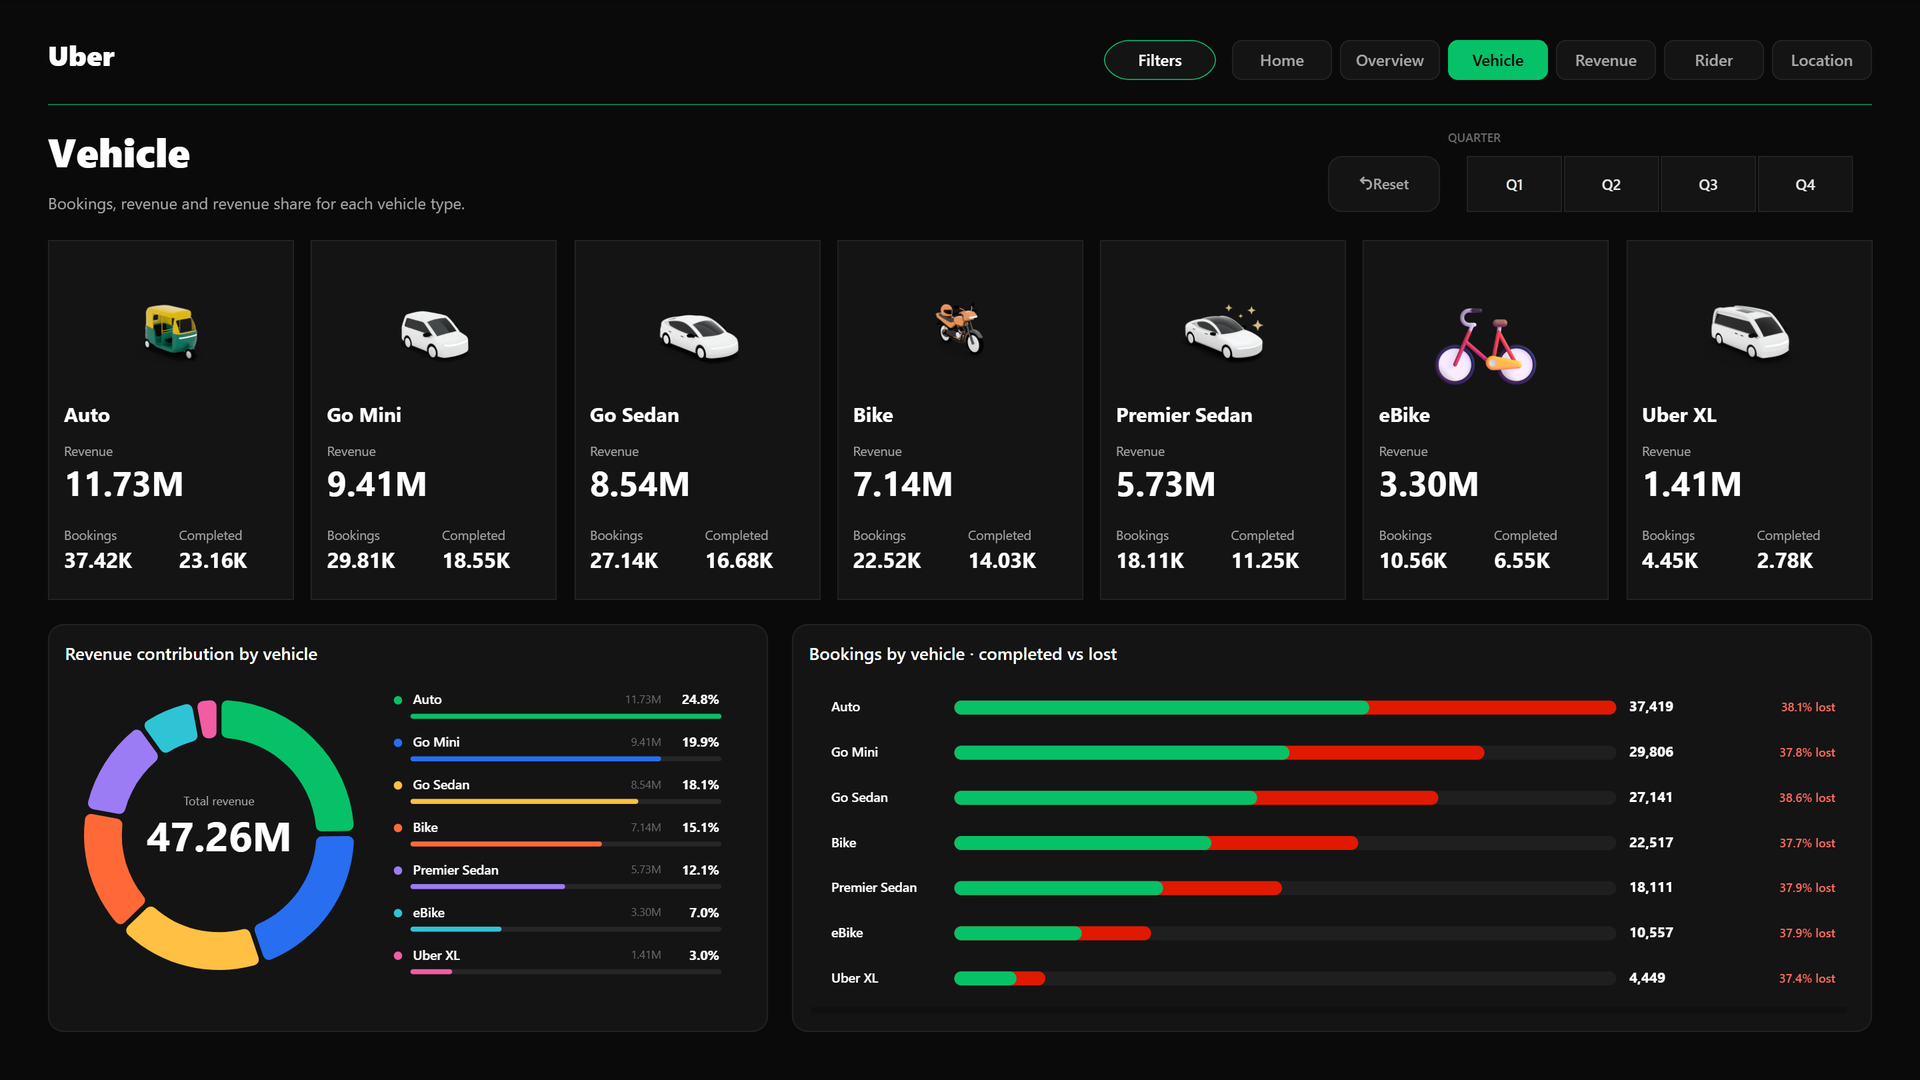

What the dashboard file says about the page in this screenshot:
{"tool":"powerbi","page":{"name":"Vehicle","canvas":[1920,1080],"ordinal":2},"visuals":[{"type":"textbox","box":[48,36,200,48],"z":100},{"type":"actionButton","box":[1232,40,100,40],"z":200},{"type":"actionButton","box":[1340,40,100,40],"z":300},{"type":"actionButton","box":[1448,40,100,40],"z":400},{"type":"actionButton","box":[1556,40,100,40],"z":500},{"type":"actionButton","box":[1664,40,100,40],"z":600},{"type":"actionButton","box":[1772,40,100,40],"z":700},{"type":"shape","box":[48,104,1824,1],"z":800},{"type":"textbox","box":[48,124,640,68],"z":900},{"type":"textbox","box":[48,192,640,28],"z":1000},{"type":"actionButton","box":[1328,156,112,56],"z":1100},{"type":"textbox","box":[1448,128,300,24],"z":1200},{"type":"slicer","fields":{"Values":["Dim_Date.Quarter"]},"box":[1448,156,424,56],"z":1300},{"type":"shape","box":[48,240,246,360],"z":1400},{"type":"image","box":[64,276,214,116],"z":1500},{"type":"shape","box":[311,240,246,360],"z":1900},{"type":"image","box":[327,276,214,116],"z":2000},{"type":"shape","box":[574,240,246,360],"z":2400},{"type":"image","box":[590,276,214,116],"z":2500},{"type":"shape","box":[837,240,246,360],"z":2900},{"type":"image","box":[853,276,214,116],"z":3000},{"type":"shape","box":[1100,240,246,360],"z":3400},{"type":"image","box":[1116,276,214,116],"z":3500},{"type":"shape","box":[1363,240,246,360],"z":3900},{"type":"image","box":[1379,276,214,116],"z":4000},{"type":"shape","box":[1626,240,246,360],"z":4400},{"type":"image","box":[1642,276,214,116],"z":4500},{"type":"deneb7E15AEF80B9E4D4F8E12924291ECE89A","fields":{"dataset":["Dim_Vehicle.Vehicle Type","# Measures.Revenue","# Measures.Total Bookings","# Measures.Completed Bookings"]},"box":[48,392,1824,208],"z":4500},{"type":"deneb7E15AEF80B9E4D4F8E12924291ECE89A","title":"Revenue contribution by vehicle","fields":{"dataset":["Dim_Vehicle.Vehicle Type","# Measures.Revenue"]},"box":[48,624,720,408],"z":4900},{"type":"deneb7E15AEF80B9E4D4F8E12924291ECE89A","title":"Bookings by vehicle  ·  completed vs lost","fields":{"dataset":["Dim_Vehicle.Vehicle Type","# Measures.Completed Bookings","# Measures.Lost Bookings"]},"box":[792,624,1080,408],"z":5000},{"type":"actionButton","box":[1104,40,112,40],"z":90010}]}

Visuals, with their boxes in screenshot pixels (x1, y1, x2, y2), scaled from the page's 1920x1080 canvas onto the 1920x1080 screenshot:
textbox: bbox=[48, 36, 248, 84]
actionButton: bbox=[1232, 40, 1332, 80]
actionButton: bbox=[1340, 40, 1440, 80]
actionButton: bbox=[1448, 40, 1548, 80]
actionButton: bbox=[1556, 40, 1656, 80]
actionButton: bbox=[1664, 40, 1764, 80]
actionButton: bbox=[1772, 40, 1872, 80]
shape: bbox=[48, 104, 1872, 105]
textbox: bbox=[48, 124, 688, 192]
textbox: bbox=[48, 192, 688, 220]
actionButton: bbox=[1328, 156, 1440, 212]
textbox: bbox=[1448, 128, 1748, 152]
slicer - Dim_Date.Quarter: bbox=[1448, 156, 1872, 212]
shape: bbox=[48, 240, 294, 600]
image: bbox=[64, 276, 278, 392]
shape: bbox=[311, 240, 557, 600]
image: bbox=[327, 276, 541, 392]
shape: bbox=[574, 240, 820, 600]
image: bbox=[590, 276, 804, 392]
shape: bbox=[837, 240, 1083, 600]
image: bbox=[853, 276, 1067, 392]
shape: bbox=[1100, 240, 1346, 600]
image: bbox=[1116, 276, 1330, 392]
shape: bbox=[1363, 240, 1609, 600]
image: bbox=[1379, 276, 1593, 392]
shape: bbox=[1626, 240, 1872, 600]
image: bbox=[1642, 276, 1856, 392]
deneb7E15AEF80B9E4D4F8E12924291ECE89A - Dim_Vehicle.Vehicle Type x # Measures.Revenue: bbox=[48, 392, 1872, 600]
"Revenue contribution by vehicle" deneb7E15AEF80B9E4D4F8E12924291ECE89A: bbox=[48, 624, 768, 1032]
"Bookings by vehicle  ·  completed vs lost" deneb7E15AEF80B9E4D4F8E12924291ECE89A: bbox=[792, 624, 1872, 1032]
actionButton: bbox=[1104, 40, 1216, 80]
